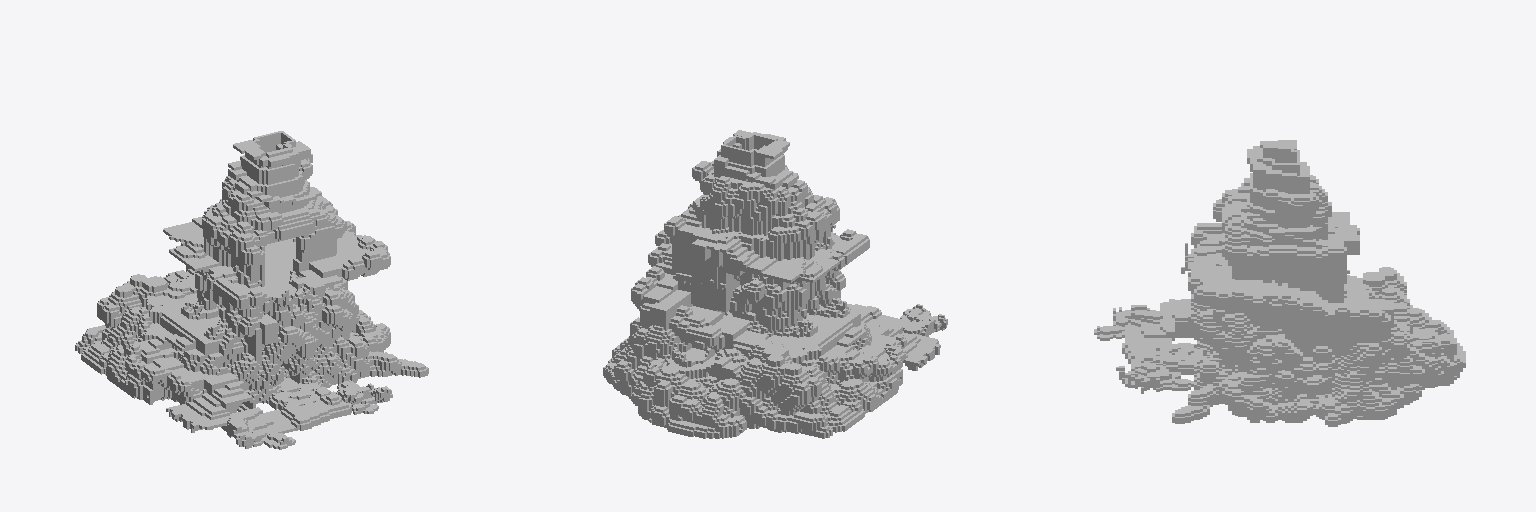
File: Volcano Island-1.obj
3 renders of one model, left to right at view 1: azimuth 30°, elevation 25°; view 2: azimuth 150°, elevation 25°; view 3: azimuth 270°, elevation 25°, orthographic.
Parts seen in each view (by area): view 1: object 1; view 2: object 1; view 3: object 1.
Part boxes in pixels (x1,y1,x2,y2): object 1: (75, 131, 428, 449); object 1: (603, 130, 947, 438); object 1: (1094, 140, 1465, 426).
Size of the model in its own units: 9.3 by 7.7 by 11.9.